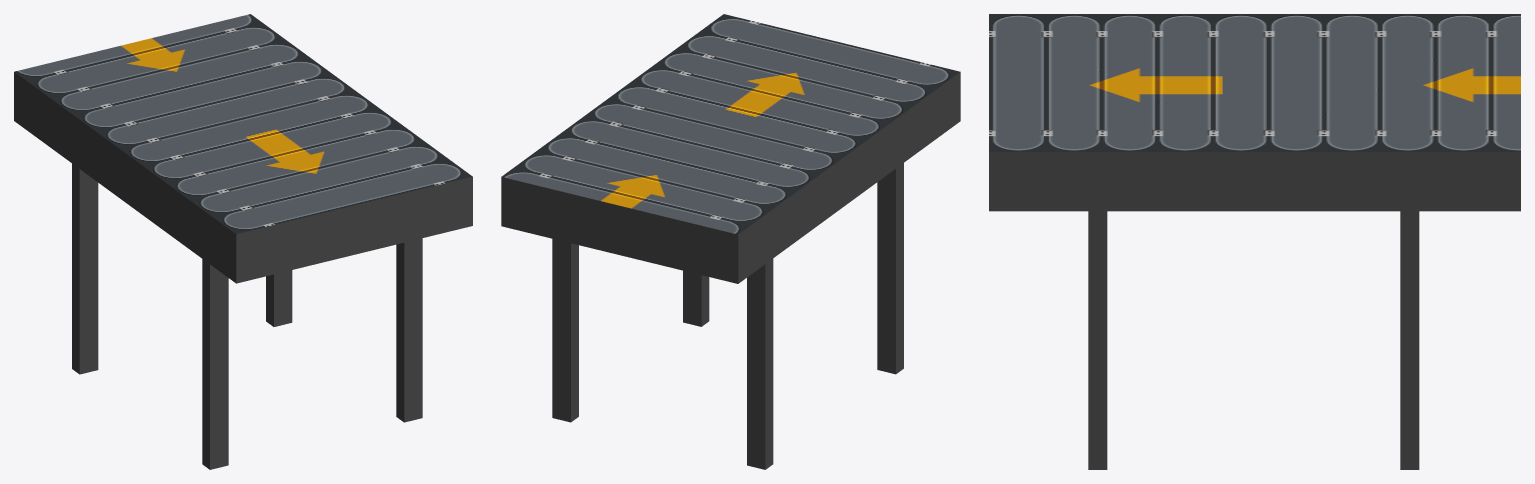
Rendered from Belt_Straigh.fbx.
3 renders of one model, left to right at view 1: azimuth 30°, elevation 25°; view 2: azimuth 150°, elevation 25°; view 3: azimuth 270°, elevation 25°, orthographic. The views are drawn at different scales.
Visible parts, largest first — view 1: Belt_Straigh; view 2: Belt_Straigh; view 3: Belt_Straigh.
Part boxes in pixels (x1=…): Belt_Straigh: x1=14, y1=14, x2=472, y2=469; Belt_Straigh: x1=501, y1=14, x2=960, y2=469; Belt_Straigh: x1=989, y1=14, x2=1520, y2=469.
Bounding box in the file's own units: 0.6147 × 0.6699 × 1.
